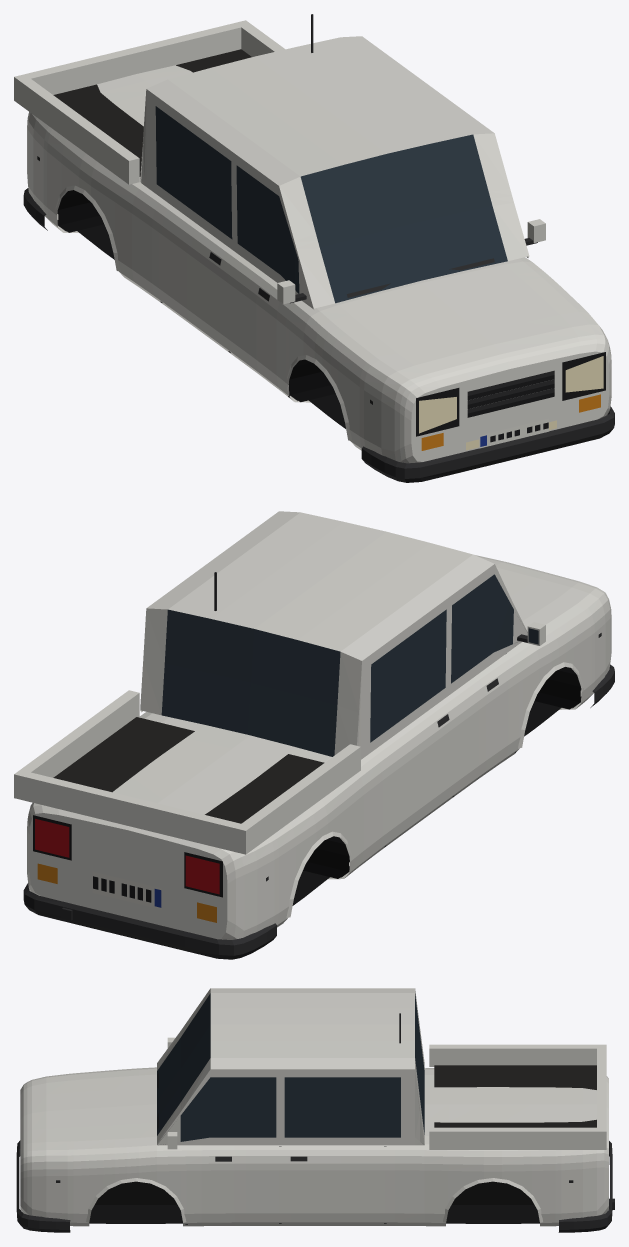
Rendered from tordo-dehesa.glb.
3 views of the same model, one above another, from view 1: azimuth 30°, elevation 25°; view 2: azimuth 150°, elevation 25°; view 3: azimuth 270°, elevation 25° (orthographic). The views are drawn at different scales.
Parts seen in each view (by area): view 1: LOD0, door_RR, door_FR; view 2: LOD0, door_RR, door_FR; view 3: LOD0, door_RL, door_FL.
Part boxes in pixels (bbox=[...]): LOD0: bbox=[14, 14, 614, 482]; door_RR: bbox=[158, 103, 232, 348]; door_FR: bbox=[227, 155, 295, 394]; LOD0: bbox=[14, 511, 614, 959]; door_RR: bbox=[380, 599, 455, 843]; door_FR: bbox=[451, 564, 518, 792]; LOD0: bbox=[16, 988, 614, 1232]; door_RL: bbox=[281, 1069, 385, 1222]; door_FL: bbox=[186, 1069, 278, 1222].
Size of what is drawn, in the model's own units: 1.97 by 1.81 by 5.05.
